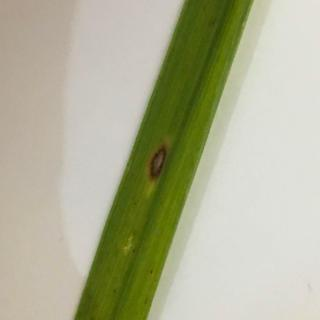Blast: (142, 127, 182, 206)
